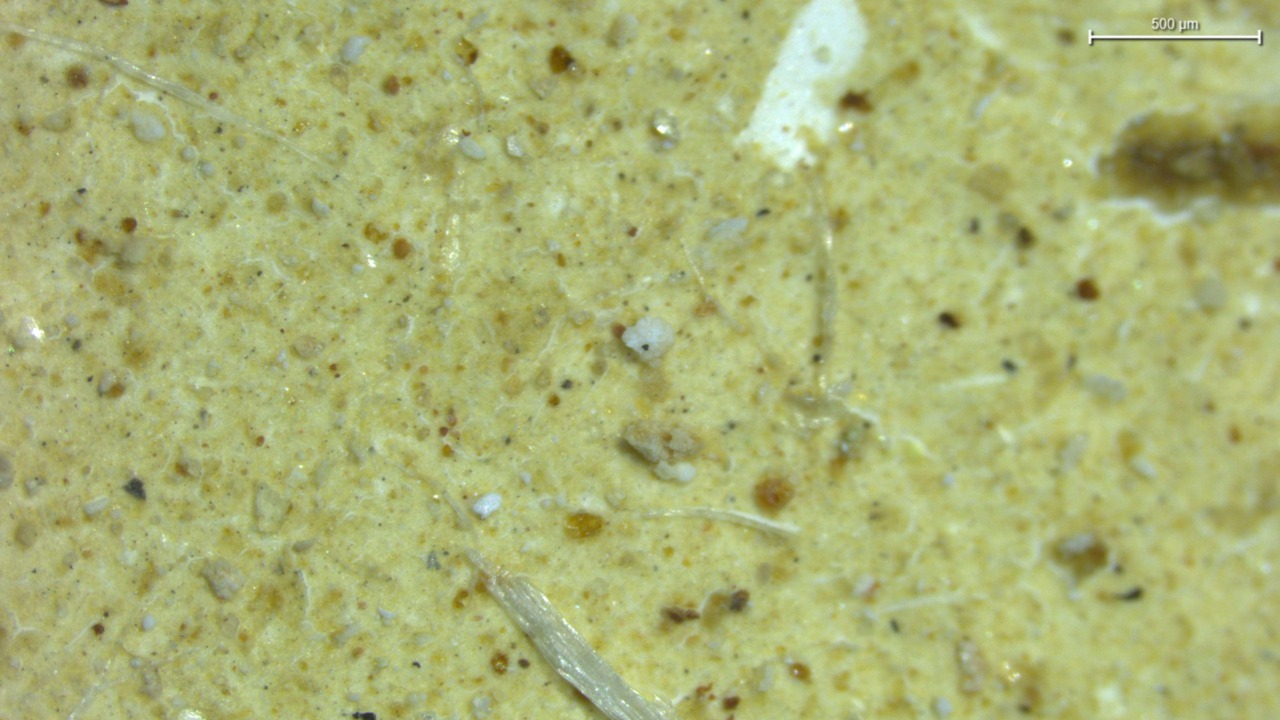microplastic_fragment: (623, 420, 700, 482), (622, 317, 674, 367), (472, 493, 502, 519)
